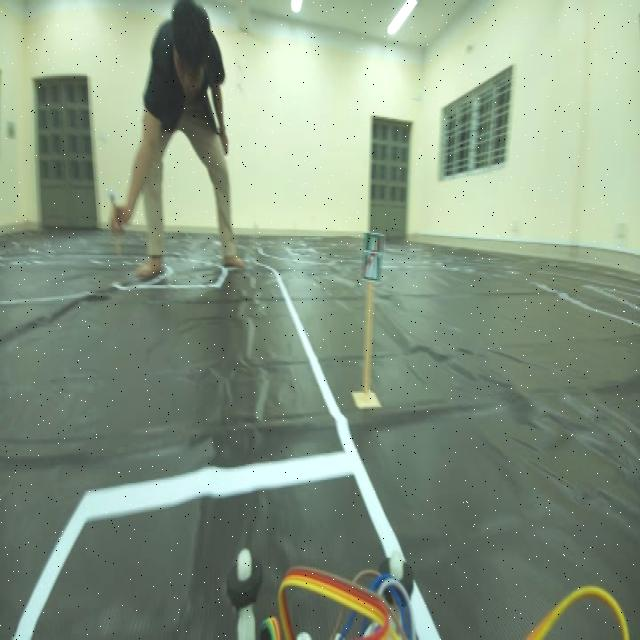highway_exit: (358, 228, 389, 293)
